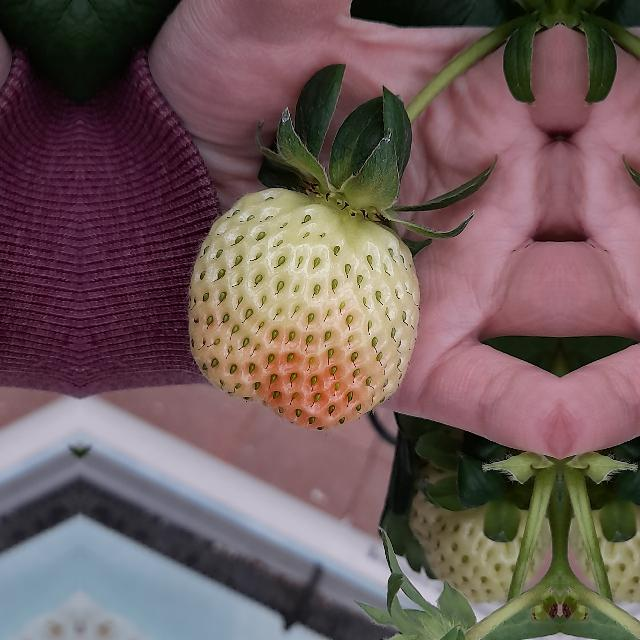Health_50: (188, 188, 420, 430)
